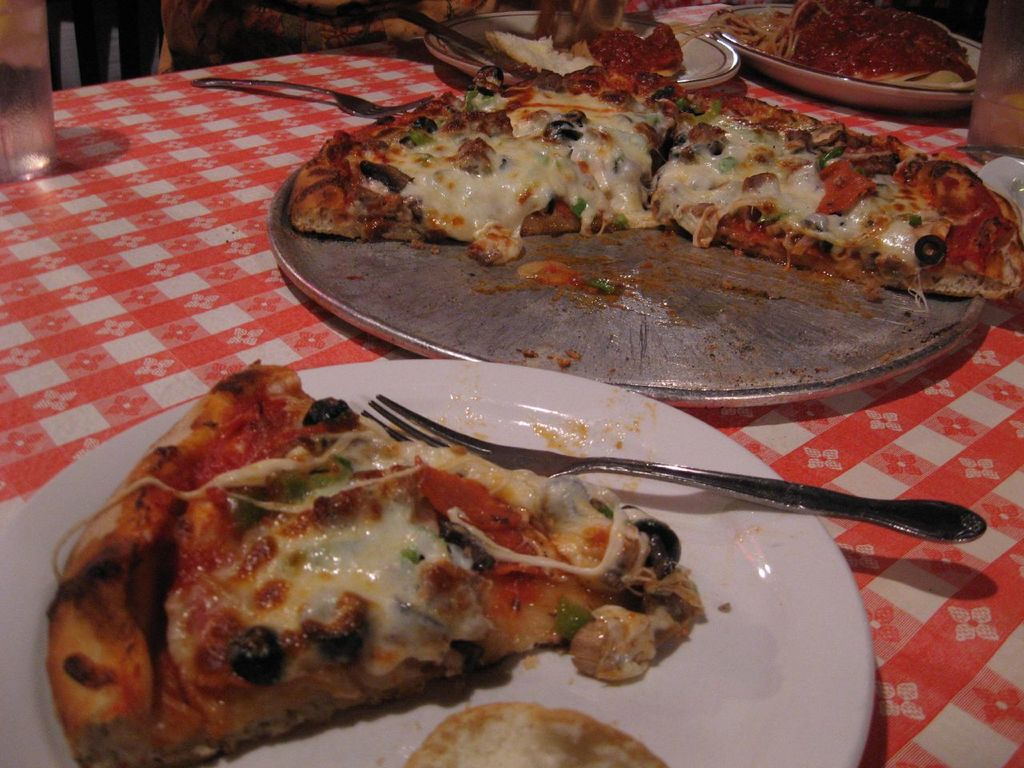Pizza: (32, 399, 708, 768), (652, 93, 1023, 302), (291, 74, 664, 230), (417, 701, 668, 767)
